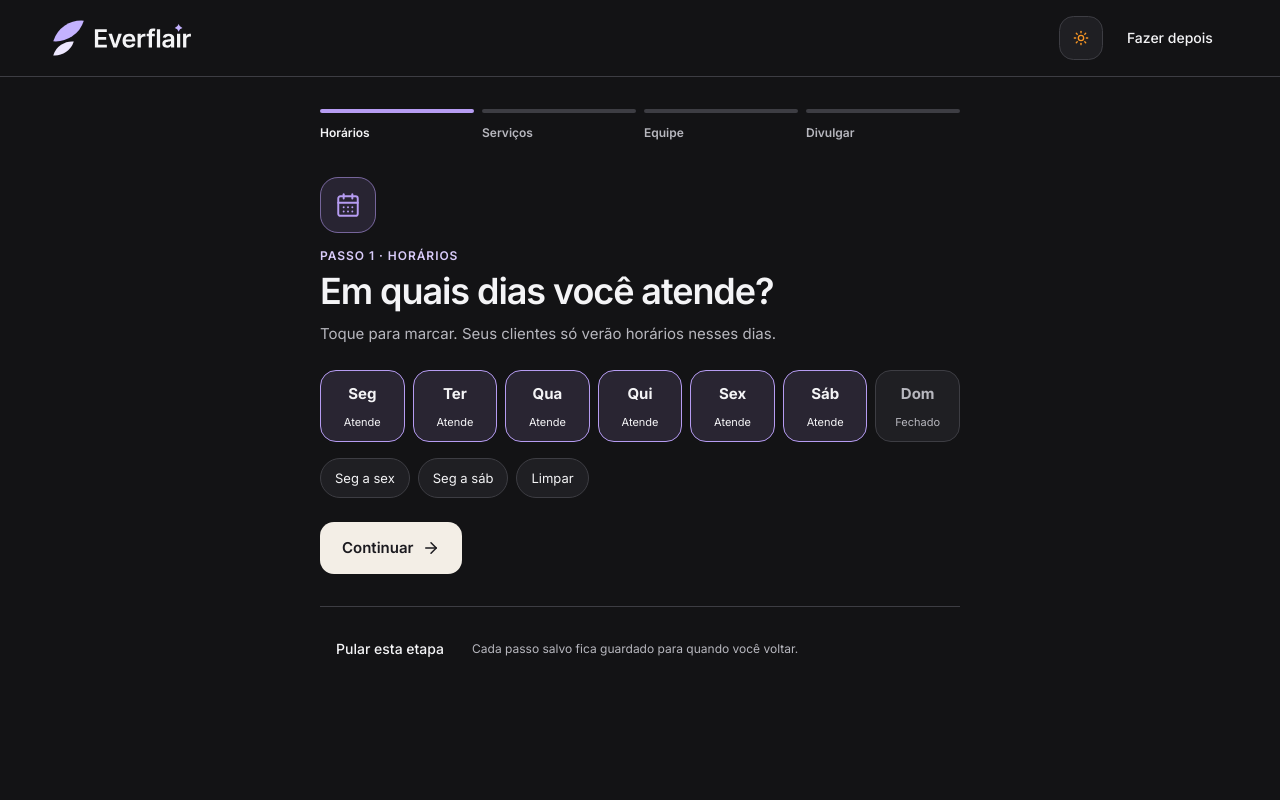
Scenario: não deixa avançar sem nenhum dia marcado
The image size is (1280, 800).
Click the button "Limpar". click: x=552, y=478
box: left=516, top=458, right=589, bottom=498
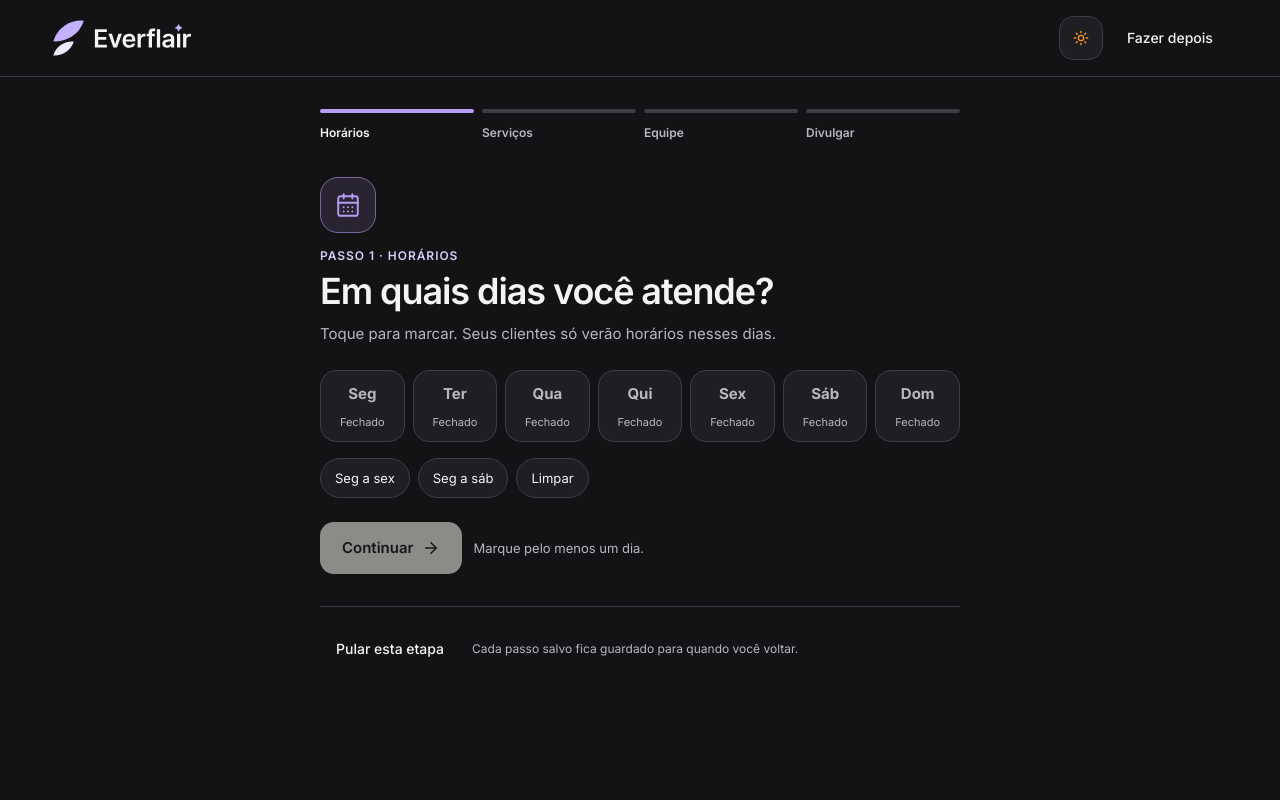
Expected: the button "Continuar" is disabled, left=320, top=522, right=462, bottom=574
